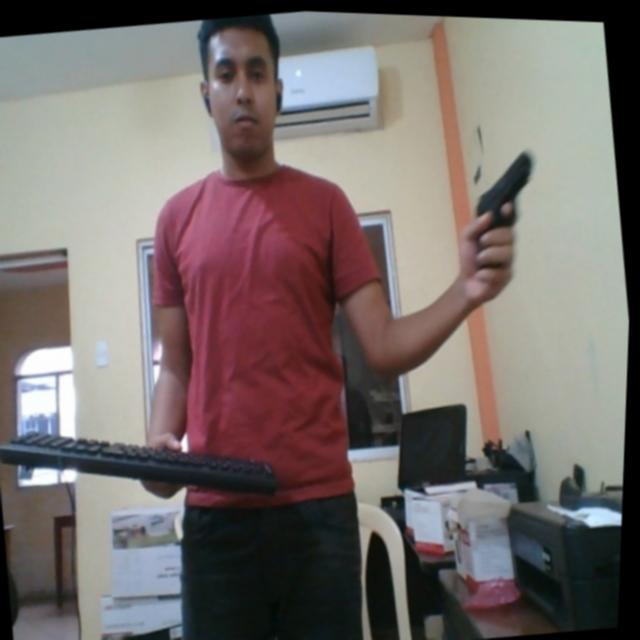weapon: (461, 140, 546, 251)
